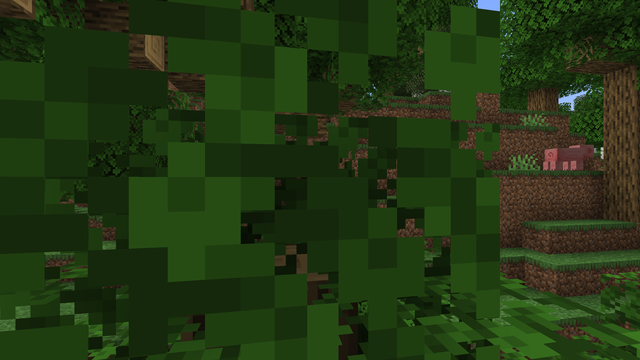cochons: (543, 146, 586, 170)
